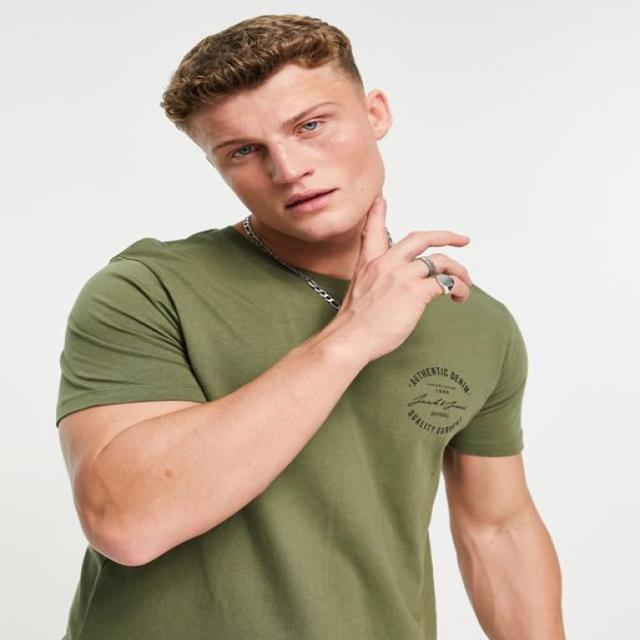tshirt: (54, 223, 528, 636)
